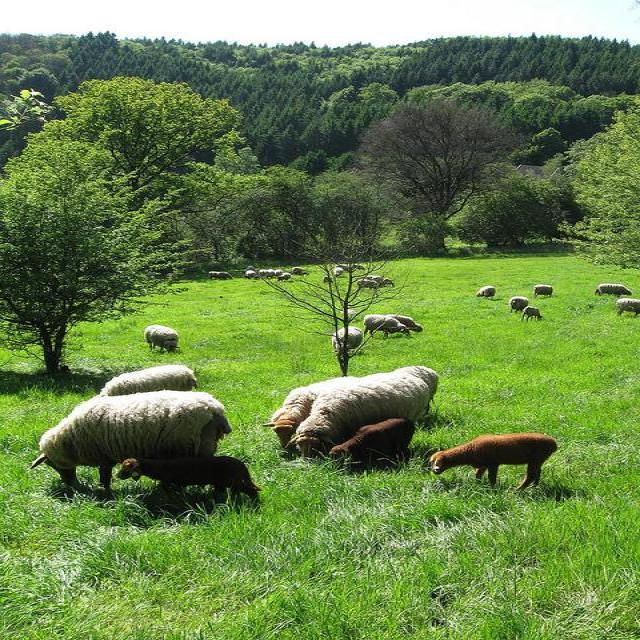Sheep: (112, 261, 559, 505), (28, 387, 231, 498), (287, 367, 440, 458), (39, 363, 200, 437), (427, 432, 562, 494), (262, 374, 366, 446)
